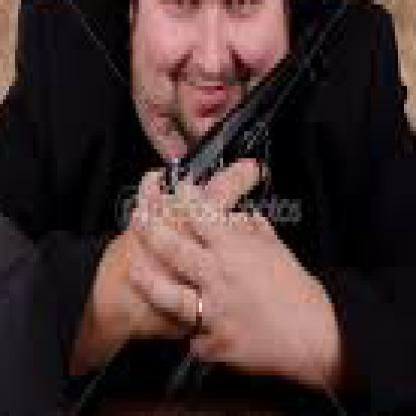gun: (154, 13, 335, 212)
